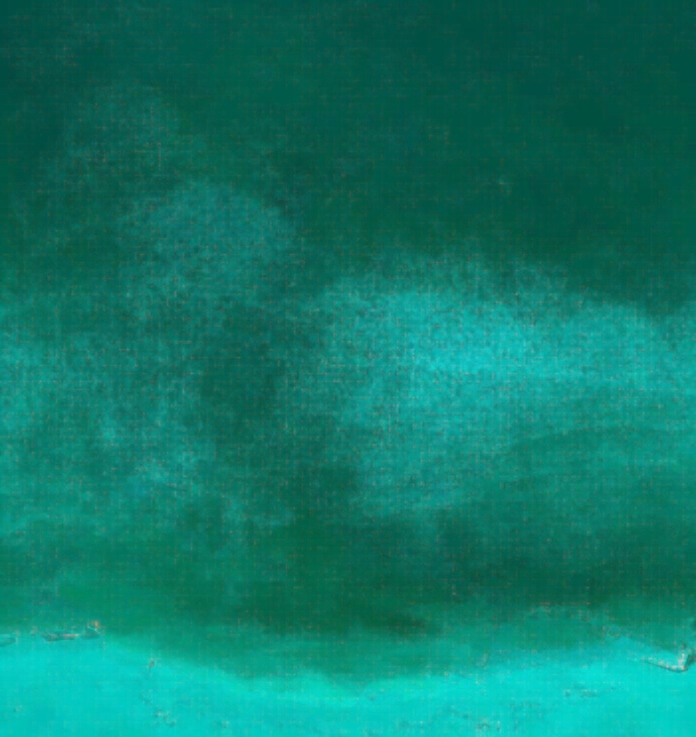rip_current: (178, 156, 405, 511)
